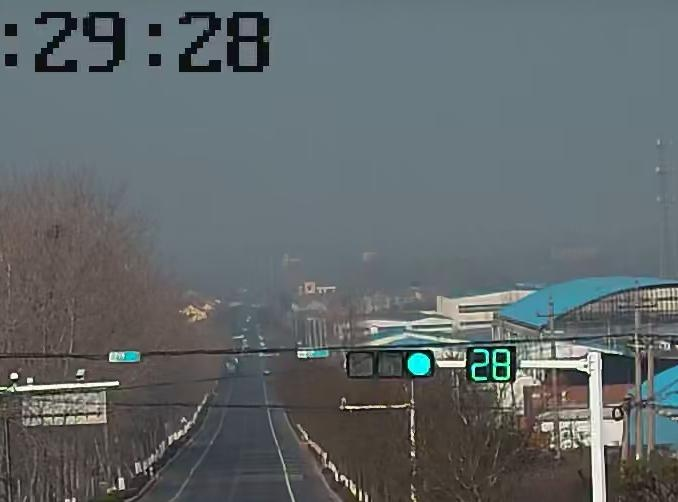green: (405, 348, 437, 376)
greentime: (469, 346, 514, 383)
